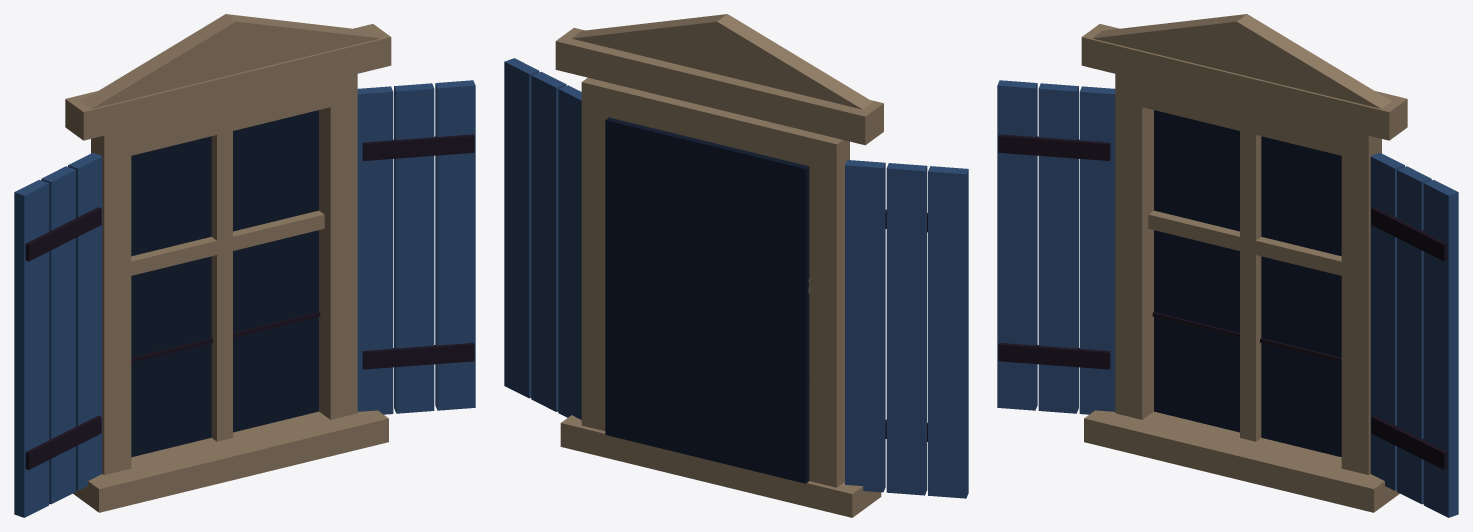
Rendered from kit_clap_window_shut.glb.
3 renders of one model, left to right at view 1: azimuth 30°, elevation 25°; view 2: azimuth 150°, elevation 25°; view 3: azimuth 330°, elevation 25°, orthographic.
Visible parts, largest first — view 1: kit_clap_window_shut; view 2: kit_clap_window_shut; view 3: kit_clap_window_shut.
Boxes of the visible parts, x1,y1,x2,y2 form: kit_clap_window_shut: [14, 14, 475, 517]; kit_clap_window_shut: [504, 14, 968, 517]; kit_clap_window_shut: [997, 14, 1458, 517].
Size of the model in its own units: 1.01 by 0.95 by 0.1436.
